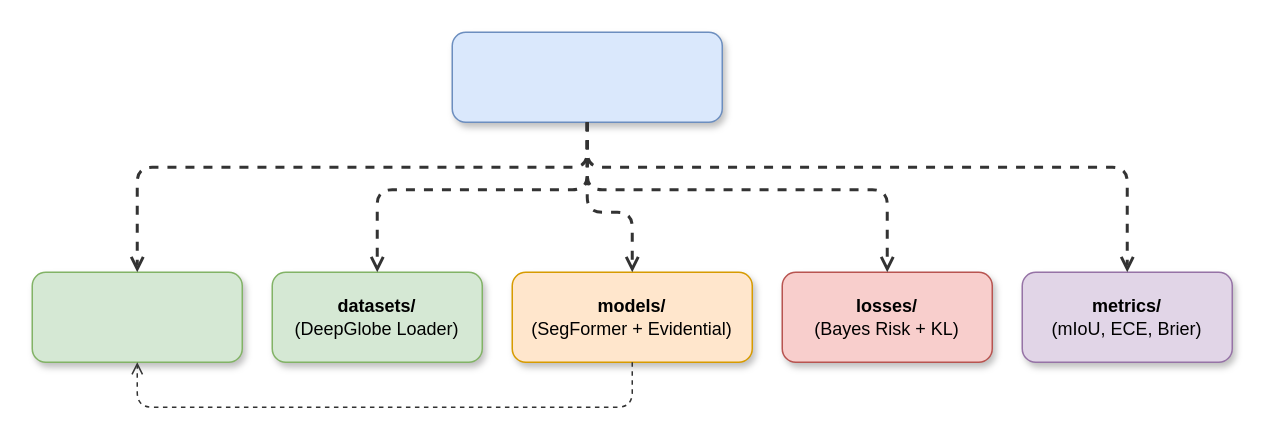
Image size: 1268x446. Some labels were removed from this diagram. The shapes that lost their labels are listed below. From the top down, each one's centre as x and y in pixels, then its label:
At point 588,79: "experiments/ (Execution Scripts)".
At point 138,319: "configs/ (YAML Parsers)".
